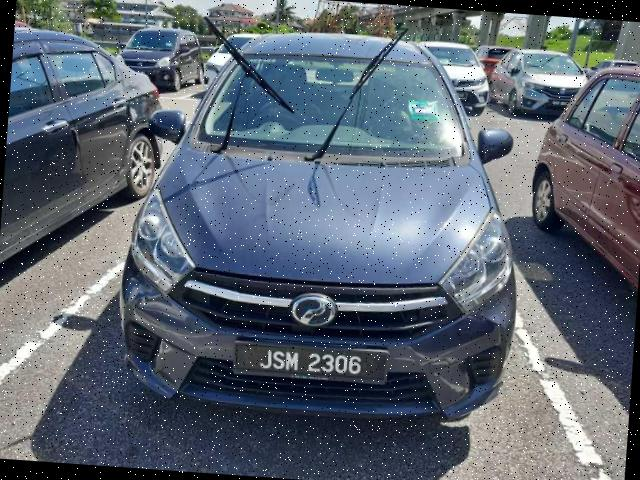License_Plate: (232, 339, 390, 386)
car: (113, 17, 537, 429)
